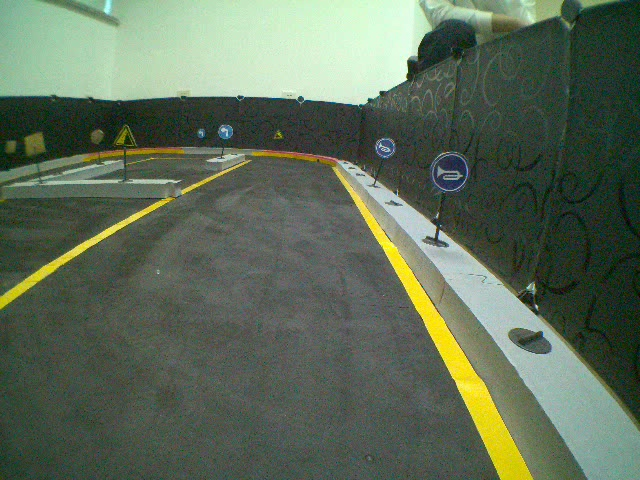fast: (113, 125, 137, 149), (271, 126, 283, 140)
horn: (432, 151, 469, 192), (374, 136, 396, 160)
turn: (216, 123, 233, 140), (195, 127, 207, 139)
